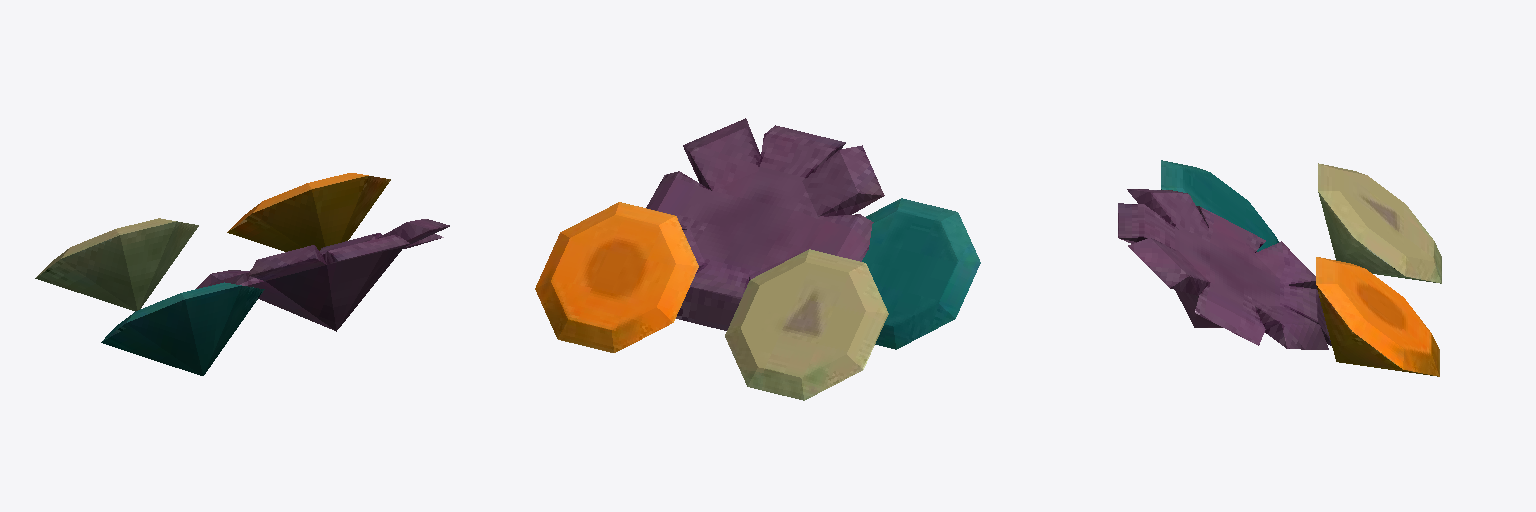
The picture shows the model from 3 angles: view 1: azimuth 30°, elevation 25°; view 2: azimuth 150°, elevation 25°; view 3: azimuth 270°, elevation 25°; orthographic projection.
Visible parts, largest first — view 1: FOL_Flower_MID_06; view 2: FOL_Flower_MID_06; view 3: FOL_Flower_MID_06.
Part boxes in pixels (bbox=[...]): FOL_Flower_MID_06: bbox=[35, 173, 449, 375]; FOL_Flower_MID_06: bbox=[535, 118, 980, 400]; FOL_Flower_MID_06: bbox=[1118, 160, 1441, 376].
Bounding box in the file's own units: 0.4971 × 0.1671 × 0.4055.
Materials: 1 (1 with a texture image).